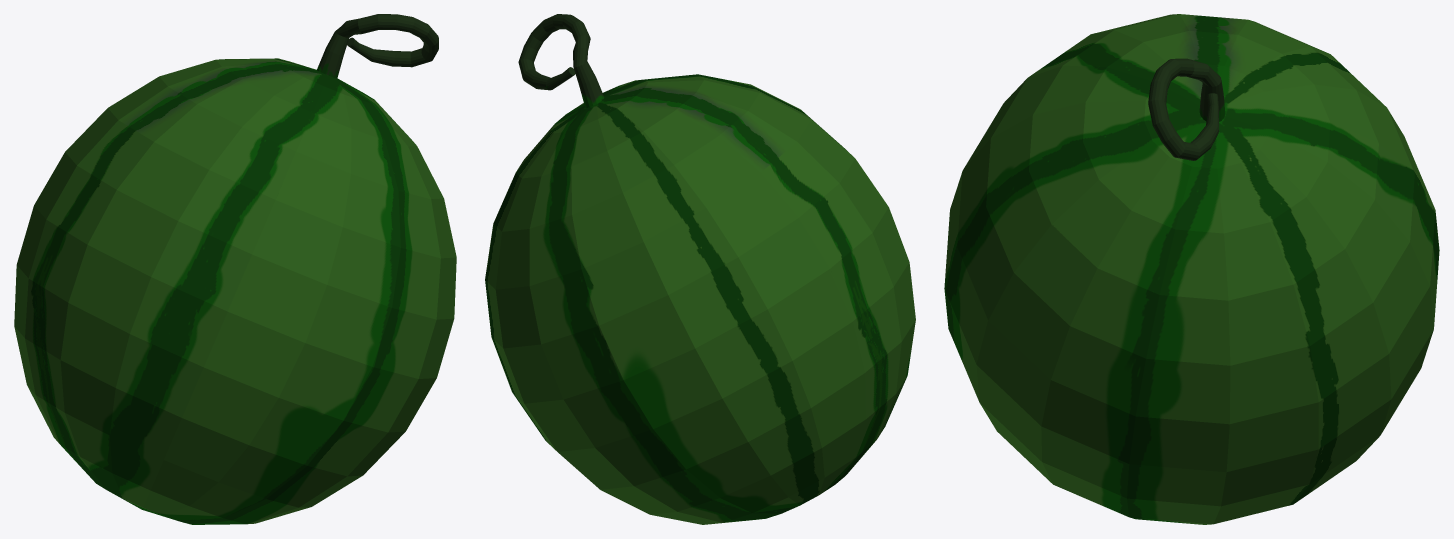
File: WaterMelon.fbx
3 views of the same model, side by side, from view 1: azimuth 30°, elevation 25°; view 2: azimuth 150°, elevation 25°; view 3: azimuth 270°, elevation 25° (orthographic). The views are drawn at different scales.
Parts seen in each view (by area): view 1: WaterMelon; view 2: WaterMelon; view 3: WaterMelon.
Boxes of the visible parts, x1=… form: WaterMelon: x1=14, y1=14, x2=456, y2=524; WaterMelon: x1=485, y1=14, x2=915, y2=524; WaterMelon: x1=944, y1=14, x2=1439, y2=524.
Size of the model in its own units: 87.07 by 99.85 by 84.96.
